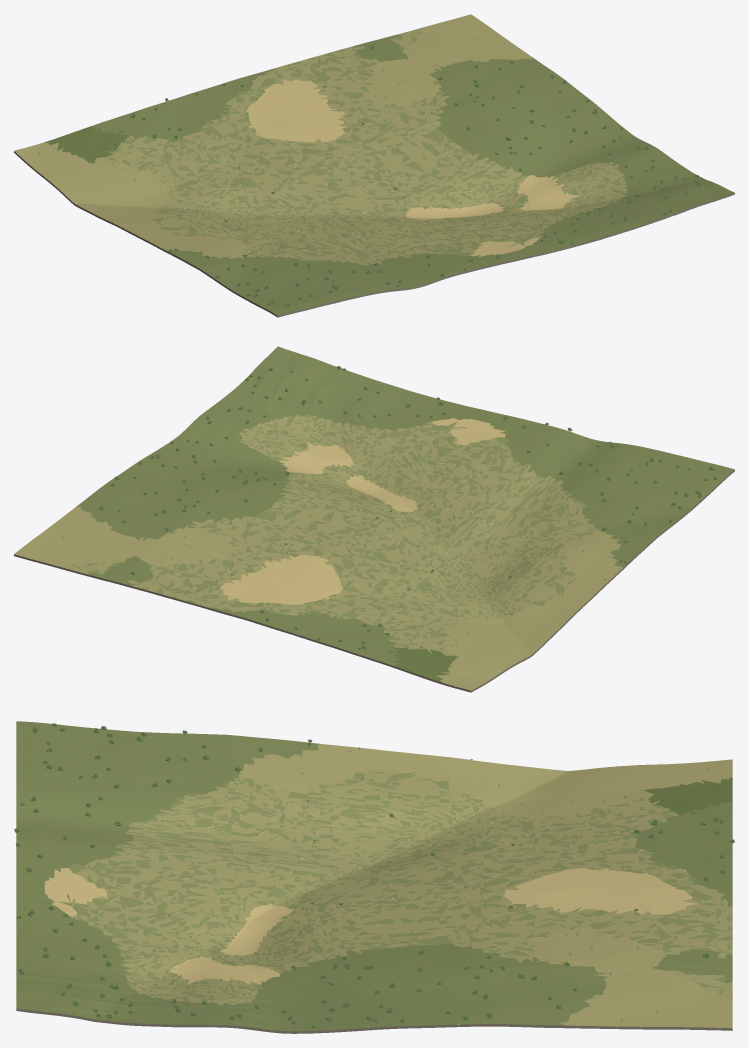
File: parca_+4_-3-yakin.glb
The picture shows the model from 3 angles, top to bottom: view 1: azimuth 30°, elevation 25°; view 2: azimuth 150°, elevation 25°; view 3: azimuth 270°, elevation 25°; orthographic projection. The views are drawn at different scales.
Parts seen in each view (by area): view 1: parca_+4_-3_arazi, parca_+4_-3_bitkiler; view 2: parca_+4_-3_arazi, parca_+4_-3_bitkiler; view 3: parca_+4_-3_arazi, parca_+4_-3_bitkiler.
Part boxes in pixels (left/top/right/bottom): parca_+4_-3_arazi: left=14, top=14, right=734, bottom=317; parca_+4_-3_bitkiler: left=38, top=38, right=719, bottom=306; parca_+4_-3_arazi: left=14, top=346, right=734, bottom=692; parca_+4_-3_bitkiler: left=61, top=366, right=717, bottom=680; parca_+4_-3_arazi: left=16, top=721, right=732, bottom=1033; parca_+4_-3_bitkiler: left=14, top=723, right=734, bottom=1027.
Bounding box in the file's own units: 1002 × 105 × 1006.
